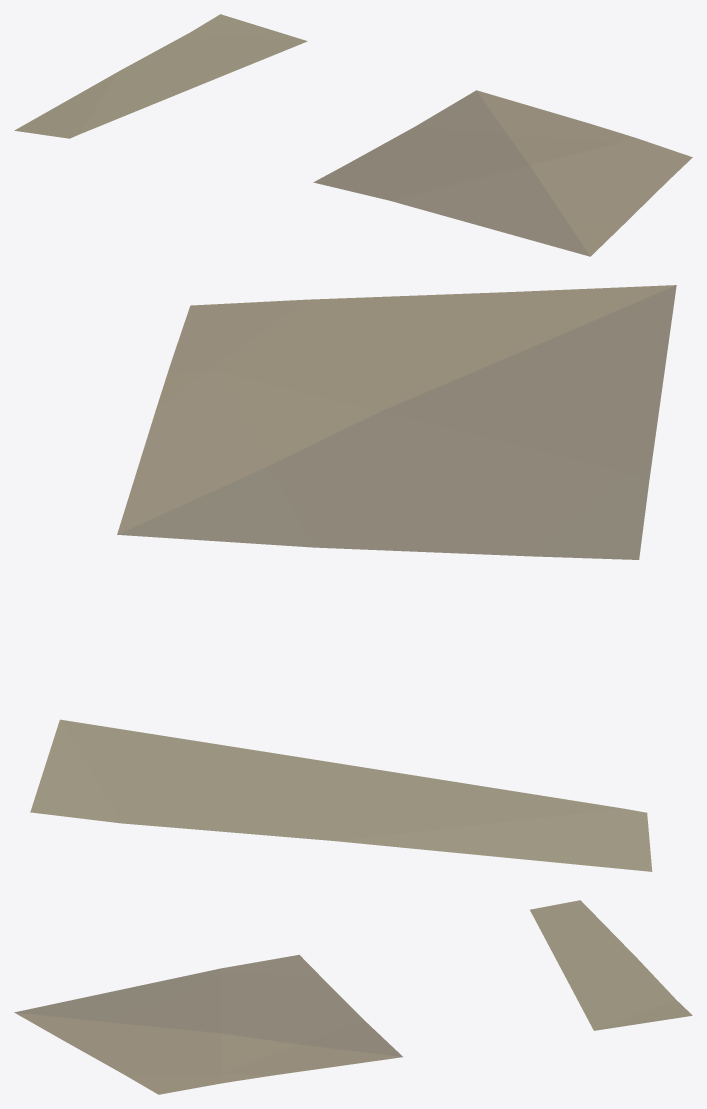
Rendered from farm_19_17_soil.glb.
3 views of the same model, one above another, from view 1: azimuth 30°, elevation 25°; view 2: azimuth 150°, elevation 25°; view 3: azimuth 270°, elevation 25° (orthographic). The views are drawn at different scales.
Visible parts, largest first — view 1: geometry_0; view 2: geometry_0; view 3: geometry_0.
Part boxes in pixels (bbox=[...]): geometry_0: bbox=[14, 14, 692, 256]; geometry_0: bbox=[30, 285, 676, 871]; geometry_0: bbox=[14, 900, 692, 1094].
Size of the model in its own units: 168 by 7.9 by 223.
